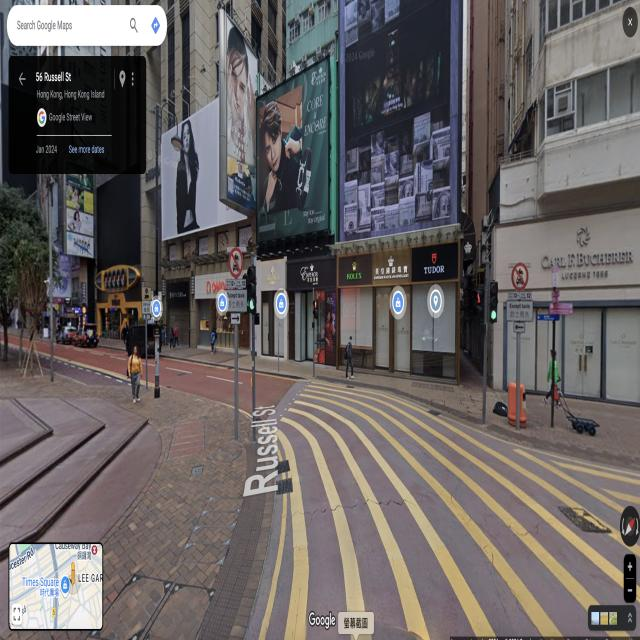Order-Sign: (508, 300, 532, 321), (512, 262, 528, 290), (229, 246, 243, 278)
